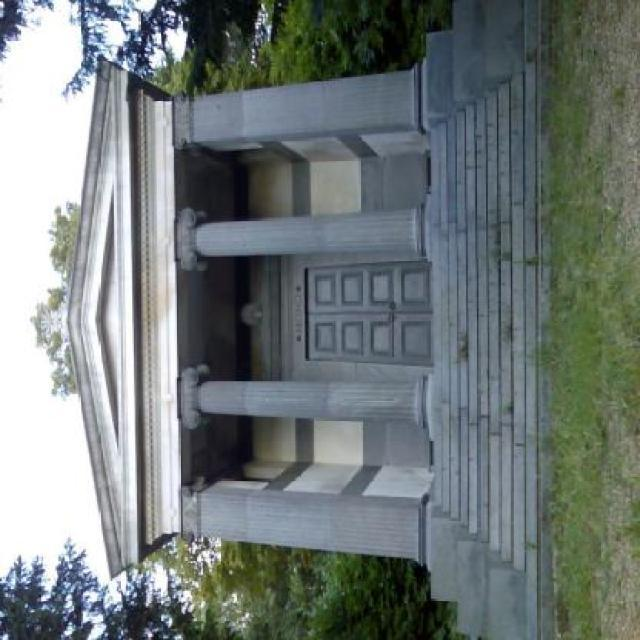stair: (423, 0, 554, 640)
